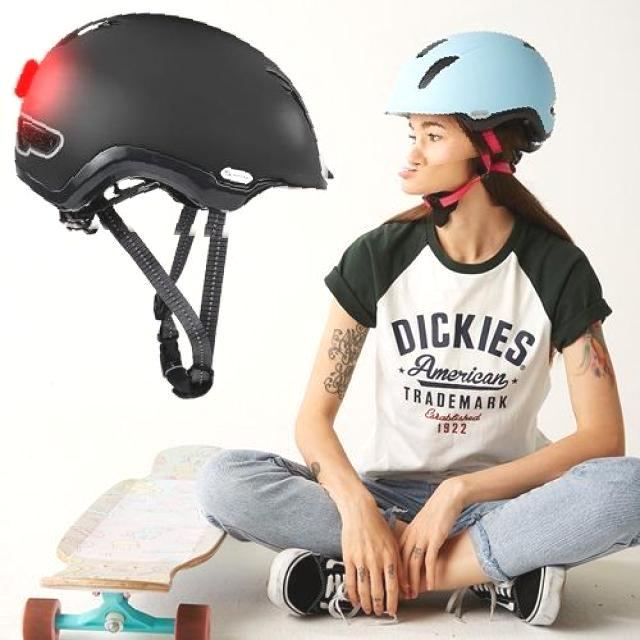helmet: (1, 4, 334, 240), (370, 3, 586, 164)
